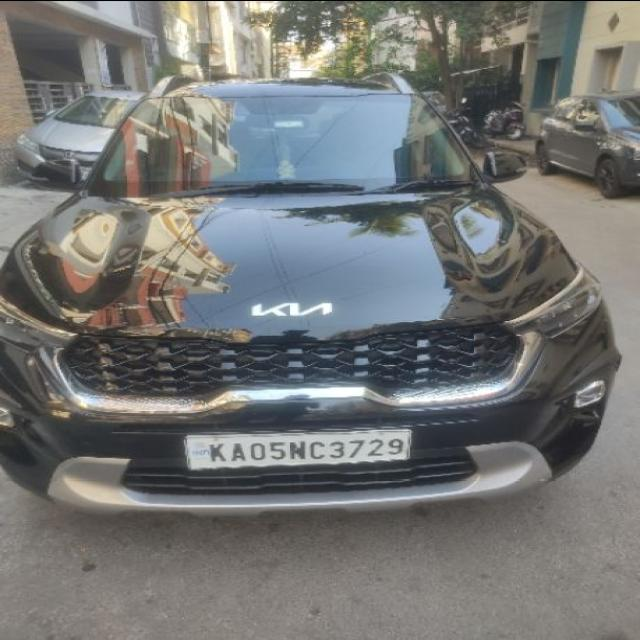license_plate: (180, 426, 413, 472)
